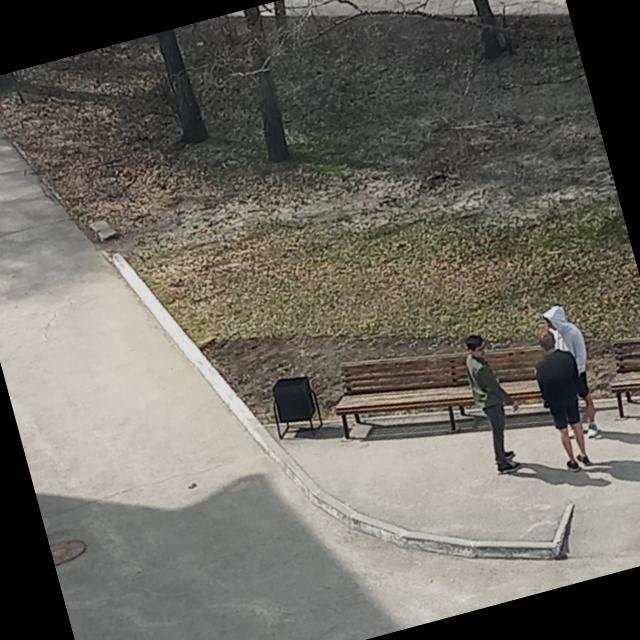person: (456, 326, 534, 475), (524, 326, 602, 474), (540, 300, 610, 442)
